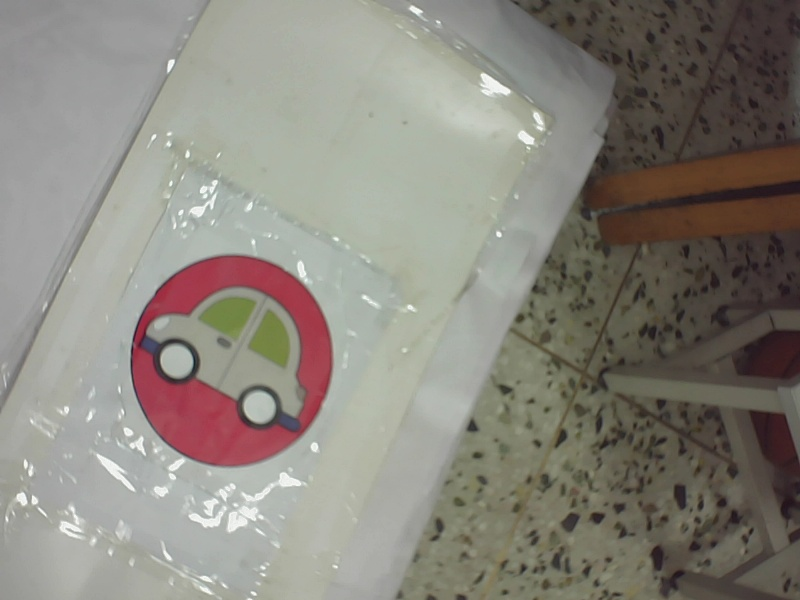areaC: (126, 251, 340, 471)
